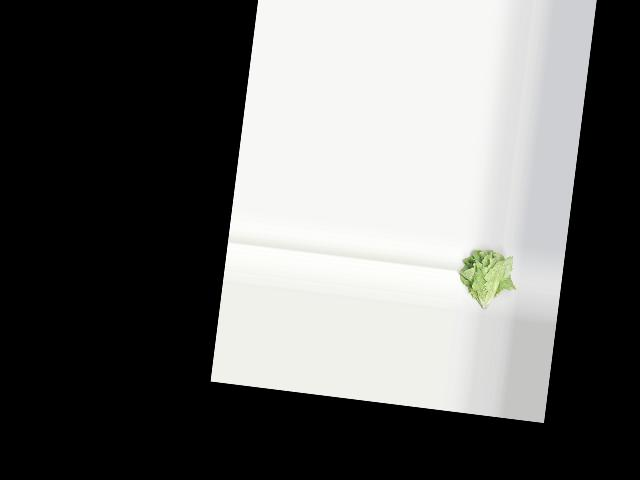lettuce: (455, 243, 514, 314)
